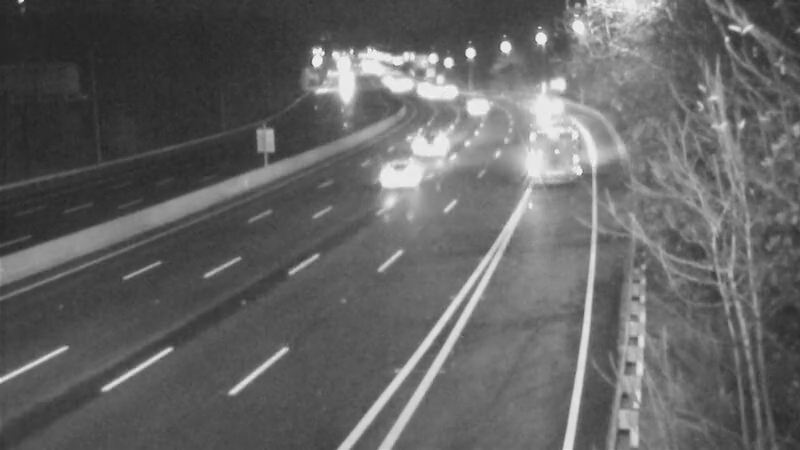vehicle: (365, 139, 445, 219), (398, 64, 448, 114), (518, 77, 568, 127), (447, 81, 497, 131), (414, 116, 464, 166), (528, 124, 578, 174)
